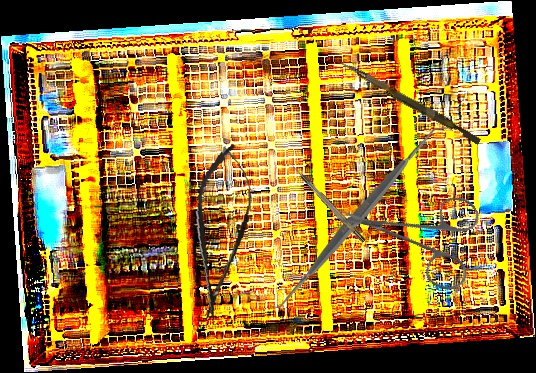Hook Surgical: (287, 160, 367, 244)
Iris Scissors: (334, 149, 507, 323)
Micro Scissor: (182, 141, 260, 325)
Pusher: (336, 60, 484, 145)
Spatula Surgical: (266, 122, 451, 312)
